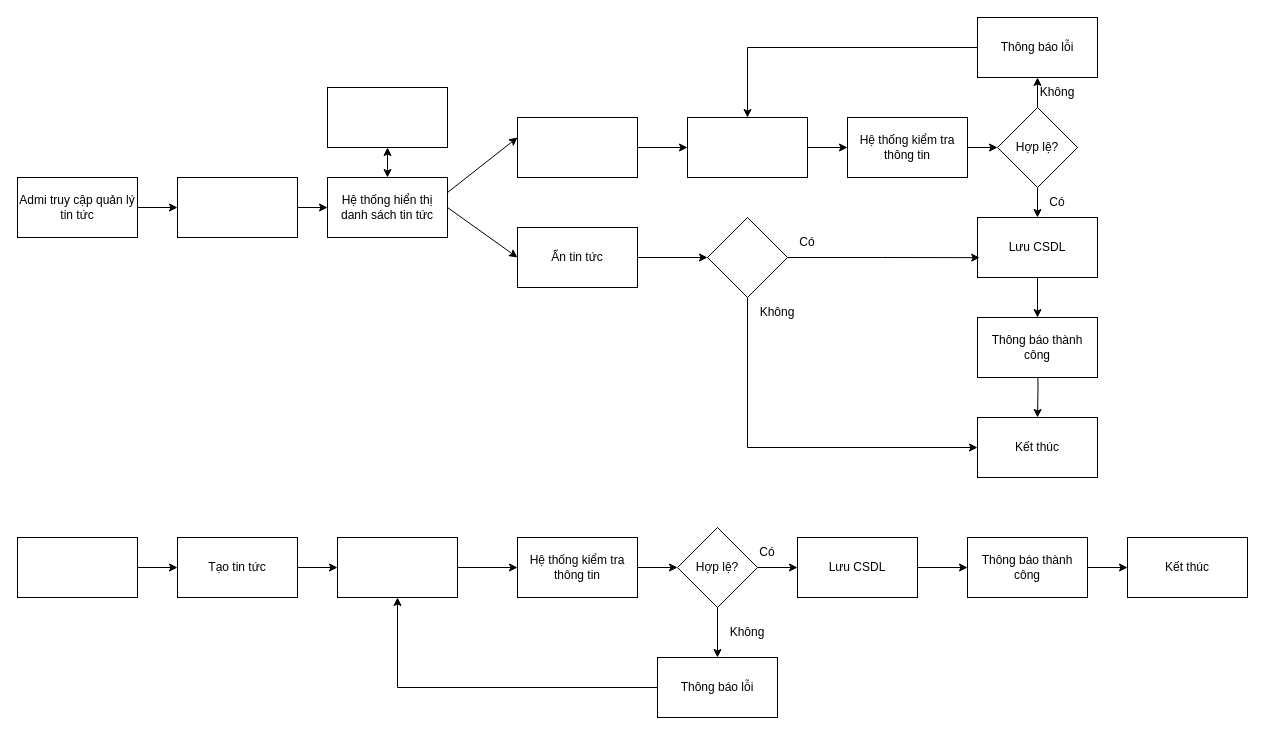
Some shapes in this 1265 by 735 pixel diagram are drawn without their labels. The shapes that lost their labels are listed below. From the top down, each one's centre as x and y in pixels, then its label:
At point 387,117: "Tìm kiếm theo tiêu đề".
At point 577,147: "Sửa tin tức".
At point 747,147: "Nhập thông tin".
At point 237,207: "Danh sách tin tức".
At point 747,257: "Xác nhận ẩn?".
At point 77,567: "Admin truy cập quản lý tin tức".
At point 397,567: "Nhập thông tin tiêu đề, nội dung, chọn chi nhánh".
